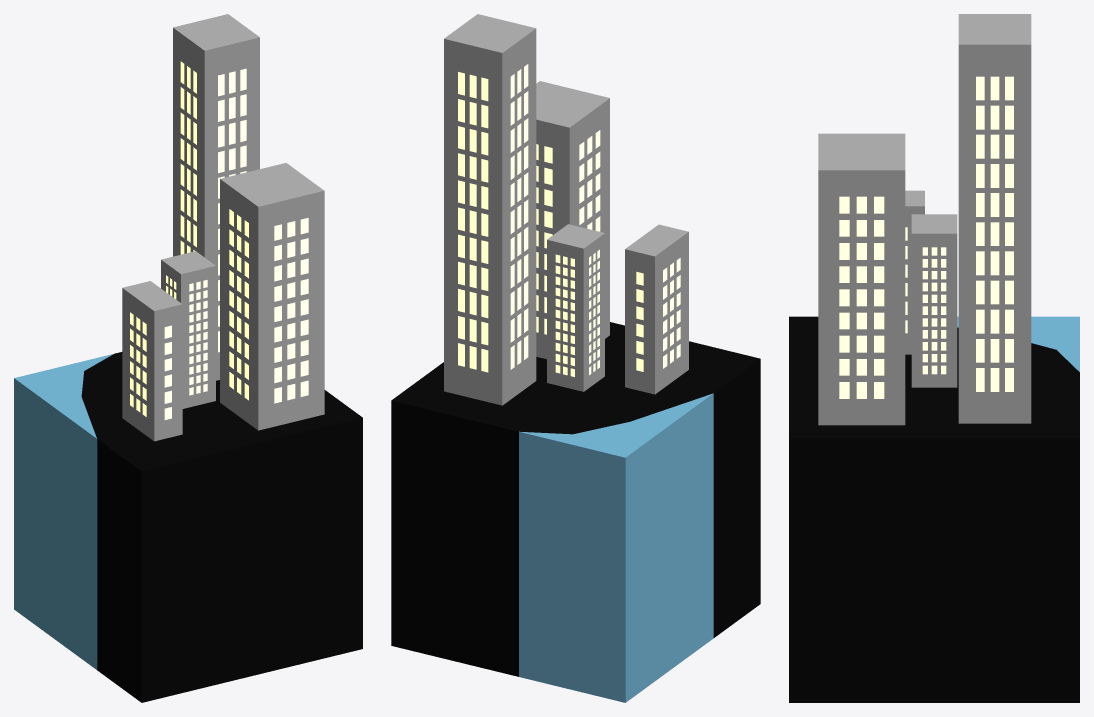
File: CostalCity.fbx
3 renders of one model, left to right at view 1: azimuth 30°, elevation 25°; view 2: azimuth 150°, elevation 25°; view 3: azimuth 270°, elevation 25°, orthographic. The views are drawn at different scales.
Parts seen in each view (by area): view 1: Combined Base, Merged City; view 2: Combined Base, Merged City; view 3: Combined Base, Merged City.
Part boxes in pixels (x1,y1,x2,y2): Combined Base: [14, 352, 362, 702]; Merged City: [122, 14, 324, 441]; Combined Base: [391, 322, 760, 702]; Merged City: [444, 14, 688, 405]; Combined Base: [789, 316, 1079, 702]; Merged City: [818, 14, 1031, 425].
Size of the model in its own units: 20 by 48.76 by 20.
